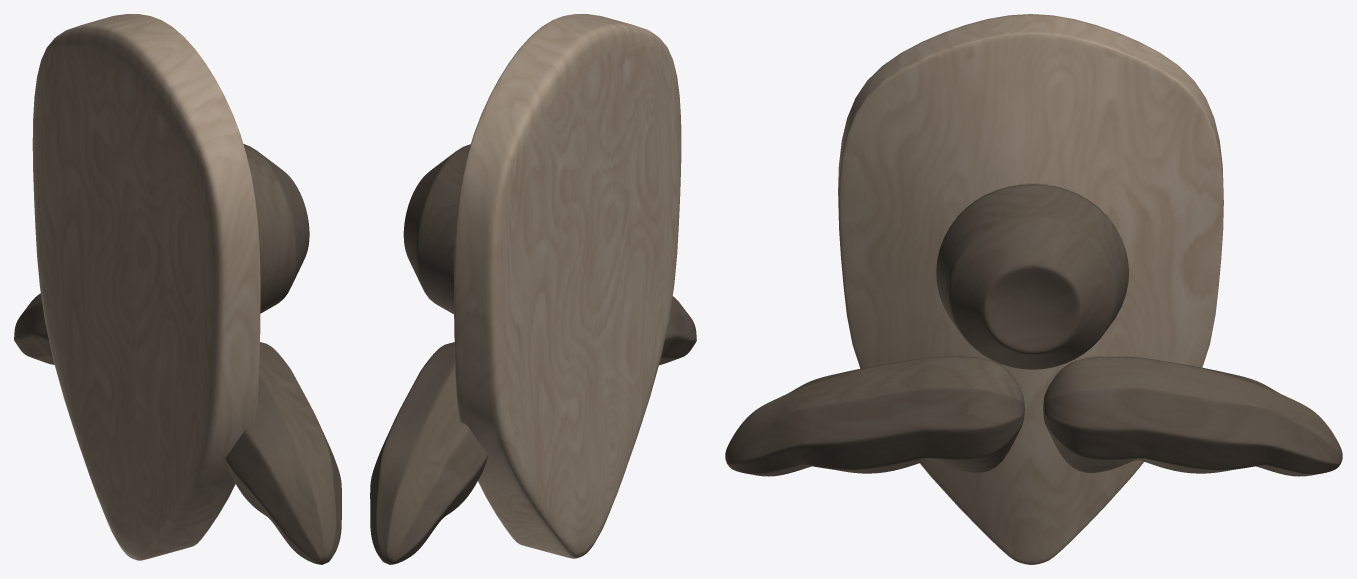
The model's file is Masque moustache.fbx.
The picture shows the model from 3 angles, left to right: view 1: azimuth 30°, elevation 25°; view 2: azimuth 150°, elevation 25°; view 3: azimuth 270°, elevation 25°; orthographic projection.
Visible parts, largest first — view 1: masque moustache LOW; view 2: masque moustache LOW; view 3: masque moustache LOW.
Part boxes in pixels (x1,y1,x2,y2): masque moustache LOW: (14,14,341,564); masque moustache LOW: (370,14,696,564); masque moustache LOW: (725,14,1342,564).
Bounding box in the file's own units: 35 × 107 × 114.
1 material, 1 textured.
